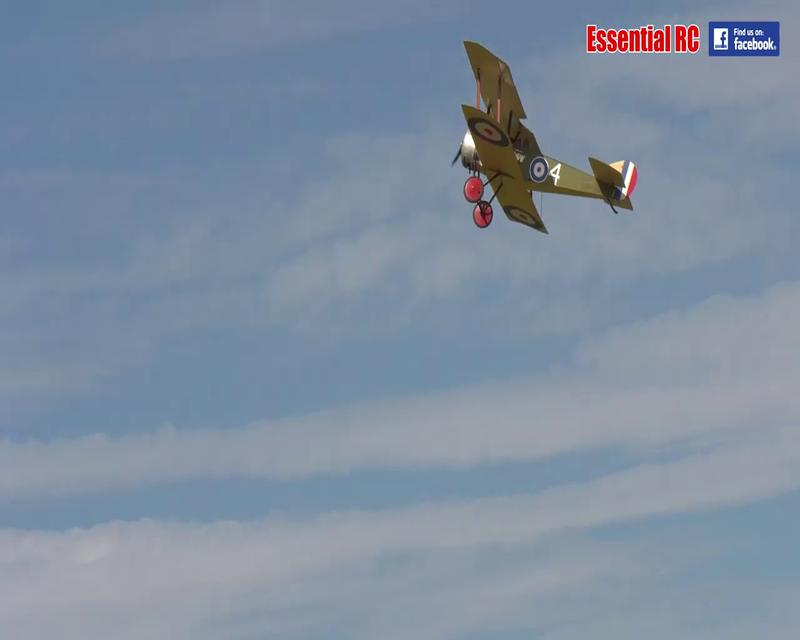UAV: (450, 38, 638, 235)
